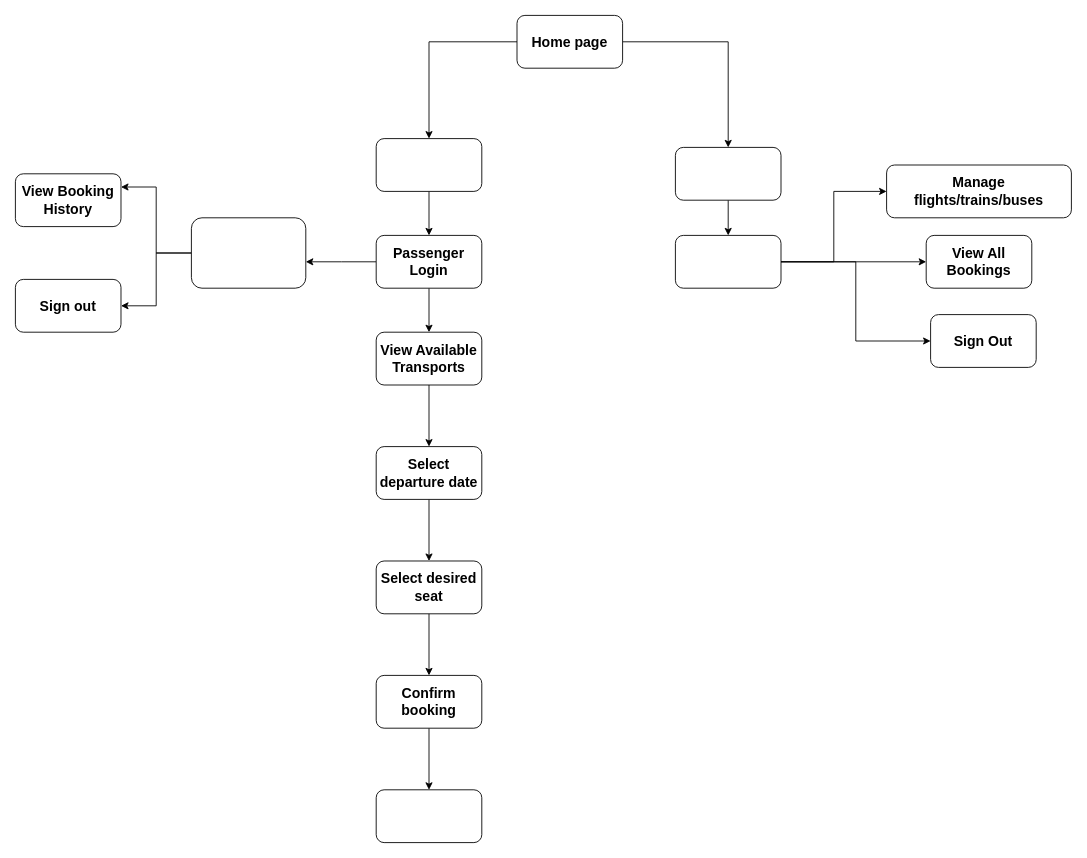
Image size: 1087x858. Some labels were removed from this diagram. The shapes that lost their labels are listed below. From the top down, each one's box as (x1, y1, x2, y2) in pixels, then its label:
(375, 138, 482, 191): Passenger Register
(675, 147, 781, 200): Admin Login
(191, 217, 306, 288): View Passenger Dashboard
(675, 235, 781, 288): Admin Page
(375, 789, 482, 843): Checkout
